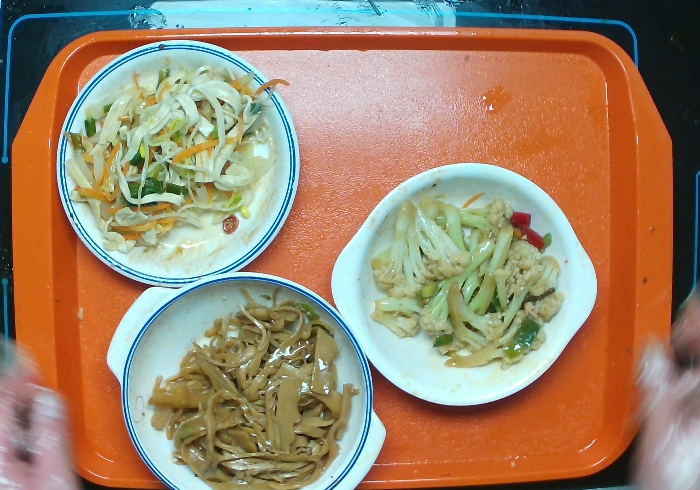HZYJPL-Dai_Er_Bai_Yuan_Wan: (322, 158, 605, 415)
HZYJPL-Lan_Bian_Dai_Er_Wan: (95, 268, 390, 488)
HZYJPL-Lan_Bian_Yuan_Die: (49, 35, 303, 297)
